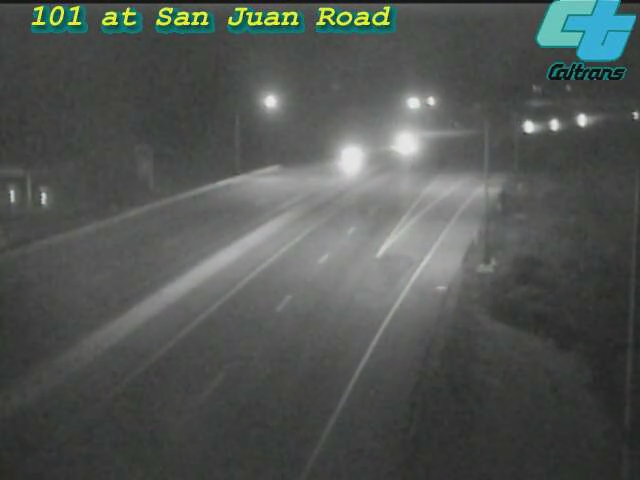vehicle: (324, 134, 374, 184), (377, 117, 427, 167), (558, 95, 608, 145), (532, 99, 582, 149), (504, 102, 554, 152)
